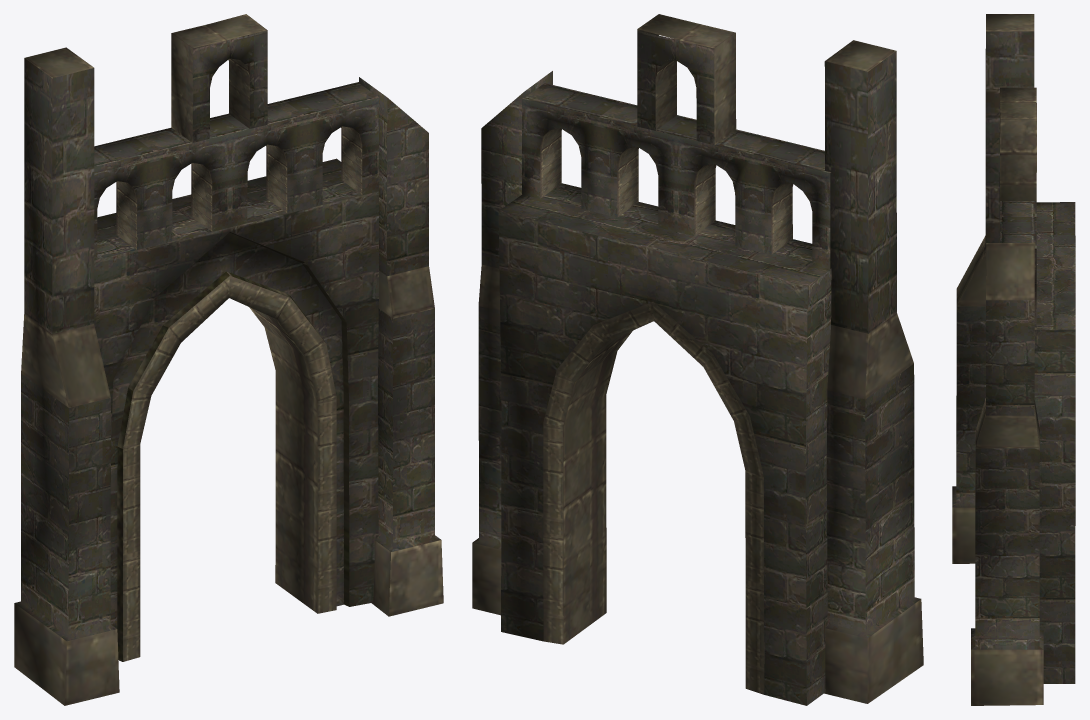
The model's file is S_Build_Forest065.FBX.
3 views of the same model, side by side, from view 1: azimuth 30°, elevation 25°; view 2: azimuth 150°, elevation 25°; view 3: azimuth 270°, elevation 25° (orthographic). The views are drawn at different scales.
Visible parts, largest first — view 1: S_Build_Forest065; view 2: S_Build_Forest065; view 3: S_Build_Forest065.
Boxes of the visible parts, x1,y1,x2,y2 form: S_Build_Forest065: [14, 14, 443, 705]; S_Build_Forest065: [472, 14, 923, 705]; S_Build_Forest065: [952, 14, 1075, 705].
Size of the model in its own units: 516 by 775 by 164.
